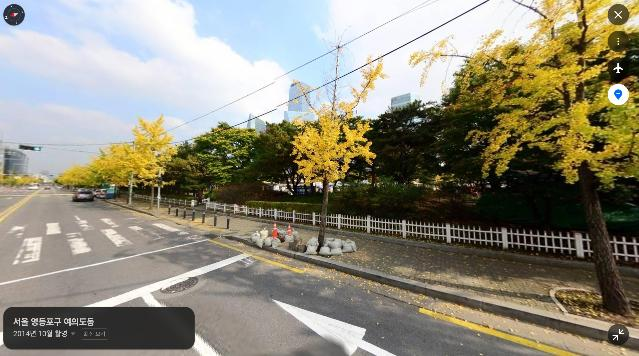ginkgo: (406, 0, 639, 317), (288, 26, 390, 251), (117, 112, 176, 209), (89, 140, 136, 203), (71, 158, 105, 193), (54, 166, 83, 190)
other: (179, 119, 256, 196), (249, 120, 300, 198)
